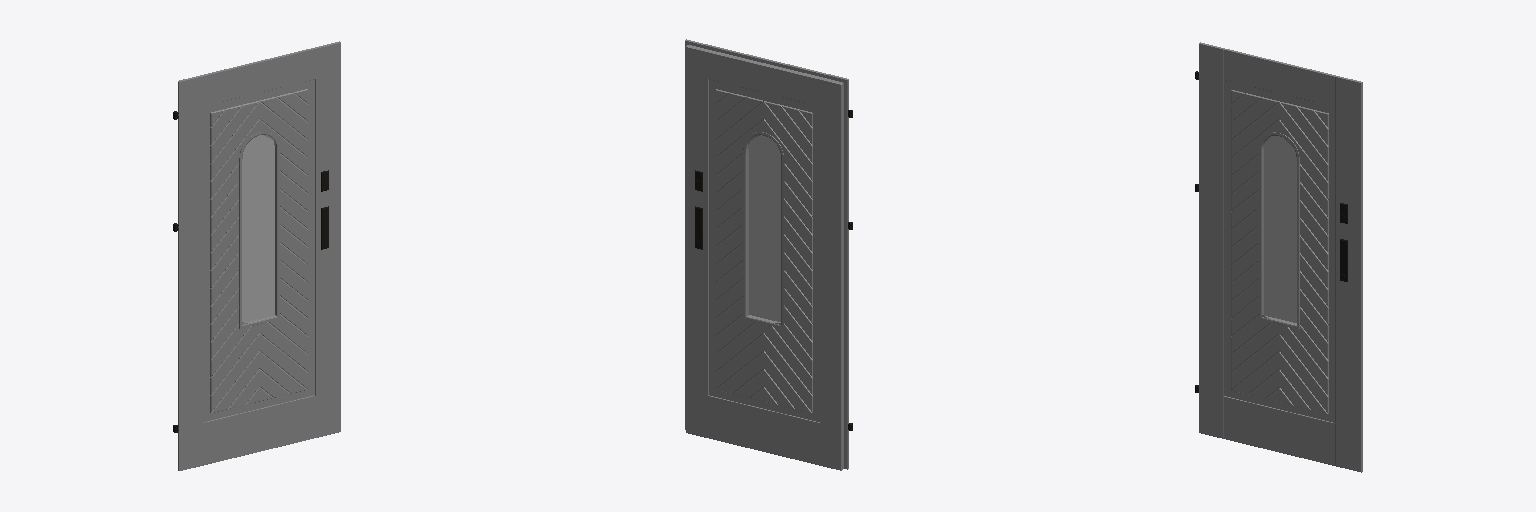
Rendered from 055_door.obj.
3 renders of one model, left to right at view 1: azimuth 30°, elevation 25°; view 2: azimuth 150°, elevation 25°; view 3: azimuth 330°, elevation 25°, orthographic.
Size of the model in its own units: 90.25 by 201 by 6.56.